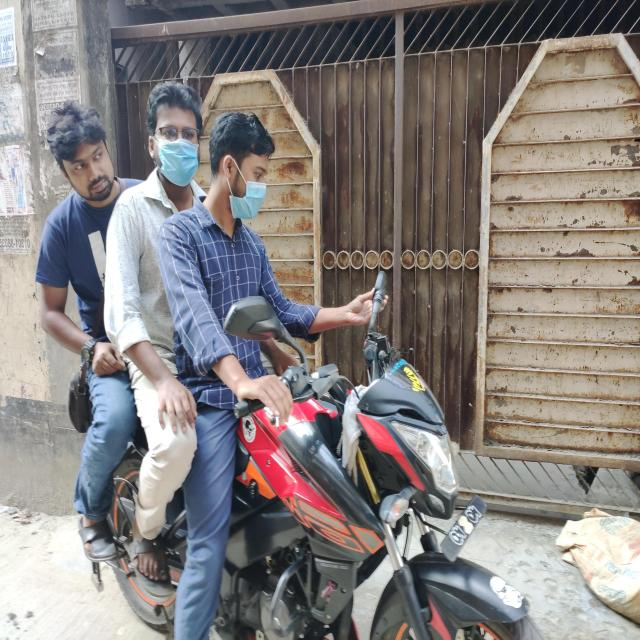triple_rider: (38, 83, 545, 640)
